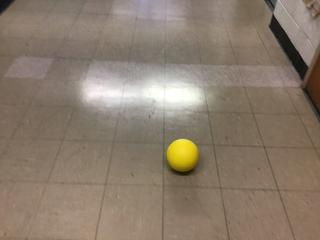power_cell: (162, 135, 202, 179)
